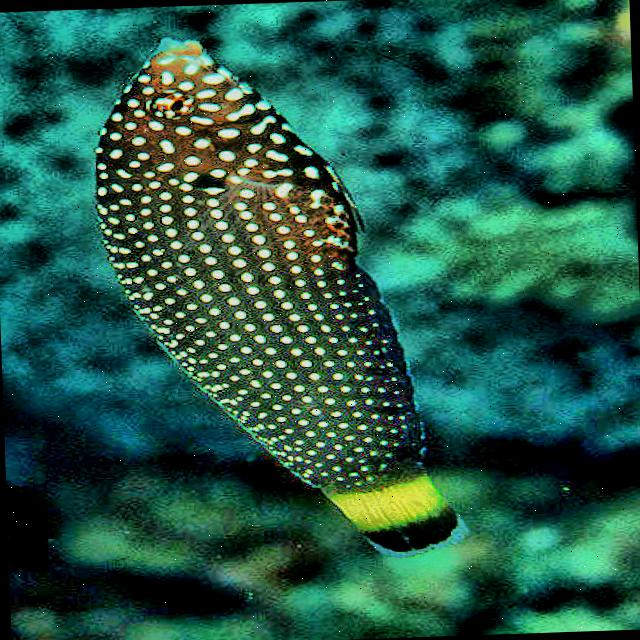fish: (71, 24, 492, 574)
